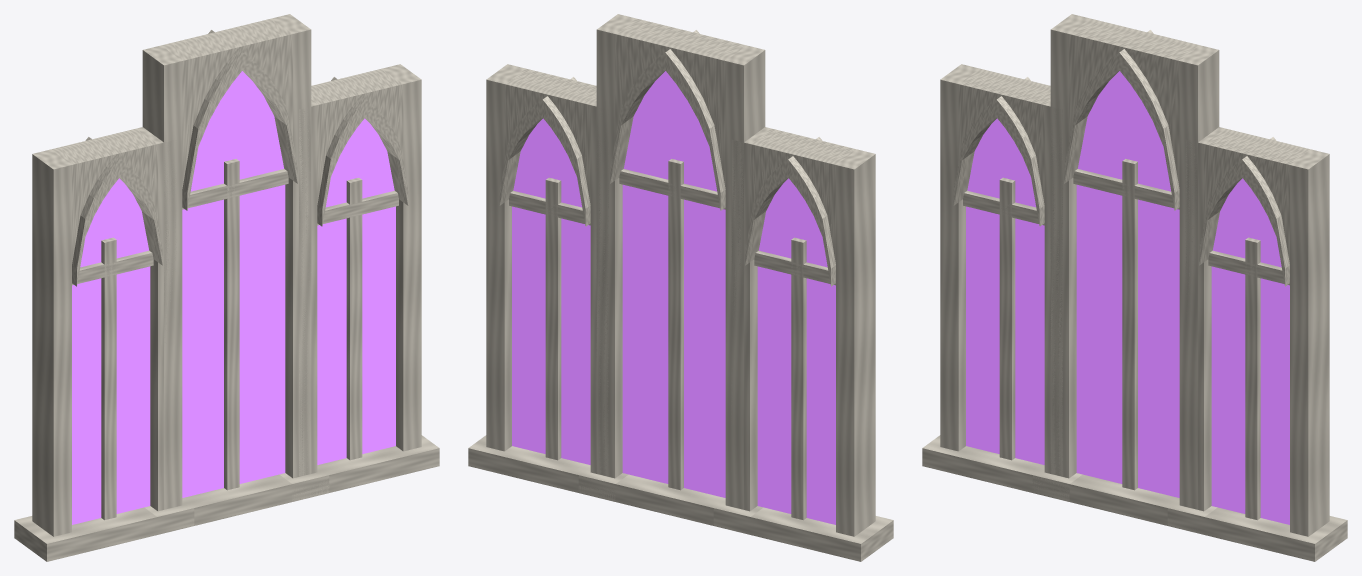
3 renders of one model, left to right at view 1: azimuth 30°, elevation 25°; view 2: azimuth 150°, elevation 25°; view 3: azimuth 330°, elevation 25°, orthographic.
Visible parts, largest first — view 1: triple-lancet-window; view 2: triple-lancet-window; view 3: triple-lancet-window.
Boxes of the visible parts, x1,y1,x2,y2 form: triple-lancet-window: (14,14,439,561); triple-lancet-window: (468,14,893,561); triple-lancet-window: (922,14,1347,561).
Bounding box in the file's own units: 3.2 × 3.6 × 0.4601.
Materials: 2 (1 with a texture image).
